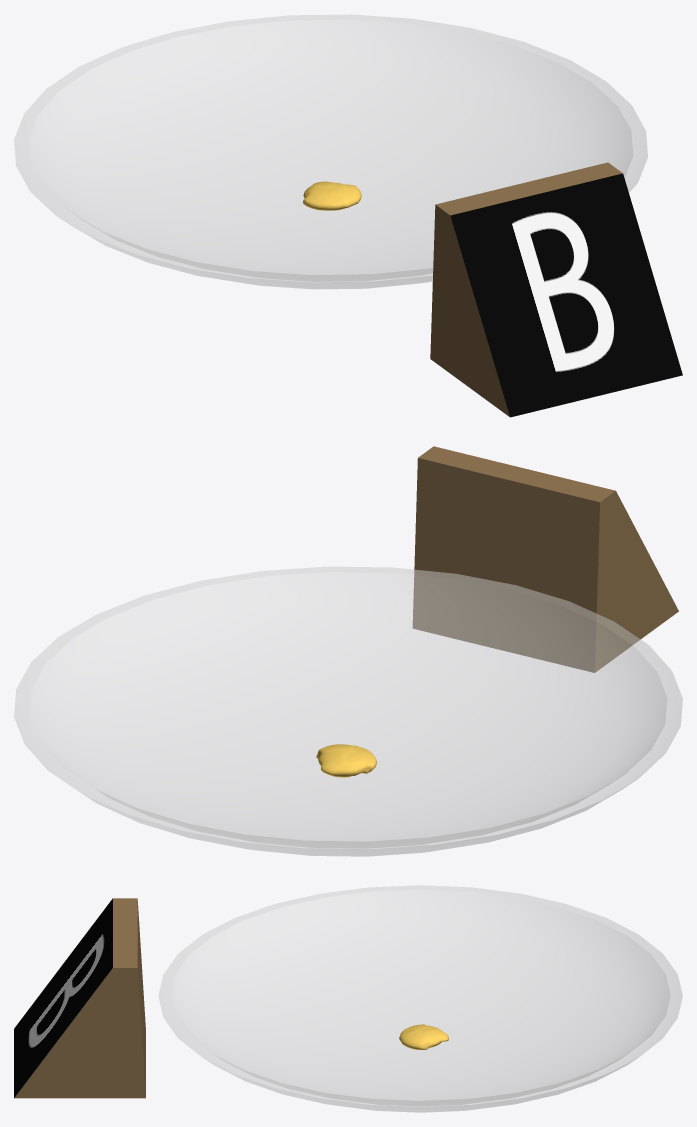
The model's file is Sample B.fbx.
3 views of the same model, one above another, from view 1: azimuth 30°, elevation 25°; view 2: azimuth 150°, elevation 25°; view 3: azimuth 270°, elevation 25° (orthographic). The views are drawn at different scales.
Visible parts, largest first — view 1: Sphere.005, Cube.003, Sphere.006; view 2: Sphere.005, Cube.003, Sphere.006; view 3: Sphere.005, Cube.003, Sphere.006.
Part boxes in pixels (x1=…): Sphere.005: x1=14, y1=14, x2=647, y2=289; Cube.003: x1=430, y1=162, x2=682, y2=417; Sphere.006: x1=303, y1=181, x2=361, y2=210; Sphere.005: x1=14, y1=566, x2=682, y2=856; Cube.003: x1=412, y1=446, x2=678, y2=672; Sphere.006: x1=316, y1=744, x2=376, y2=777; Sphere.005: x1=158, y1=885, x2=682, y2=1112; Cube.003: x1=14, y1=898, x2=145, y2=1098; Sphere.006: x1=399, y1=1024, x2=448, y2=1049.
Size of the model in its own units: 8.63 by 2.37 by 11.01.
Materials: 4 (1 with a texture image).
